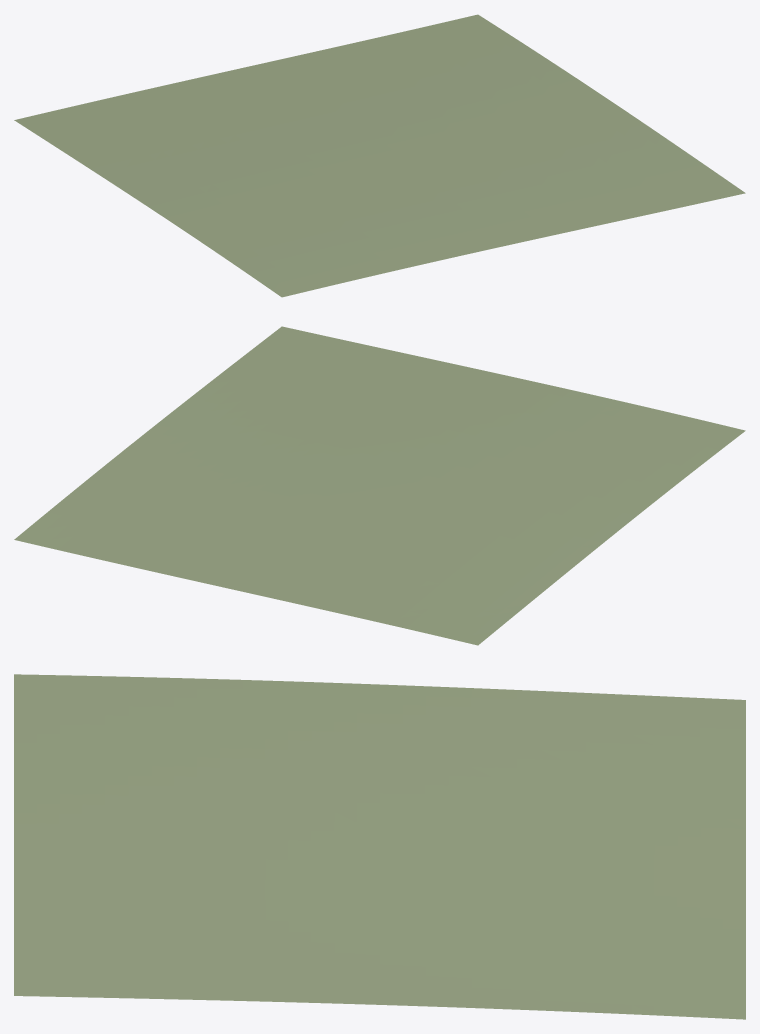
Rendered from expanse-2-10.glb.
The picture shows the model from 3 angles, top to bottom: view 1: azimuth 30°, elevation 25°; view 2: azimuth 150°, elevation 25°; view 3: azimuth 270°, elevation 25°; orthographic projection. The views are drawn at different scales.
Visible parts, largest first — view 1: expanse-2-10; view 2: expanse-2-10; view 3: expanse-2-10.
Boxes of the visible parts, <box> form: expanse-2-10: <box>14,14,745,297</box>; expanse-2-10: <box>14,326,745,645</box>; expanse-2-10: <box>14,674,745,1019</box>.
Bounding box in the file's own units: 256 × 13.86 × 256.
